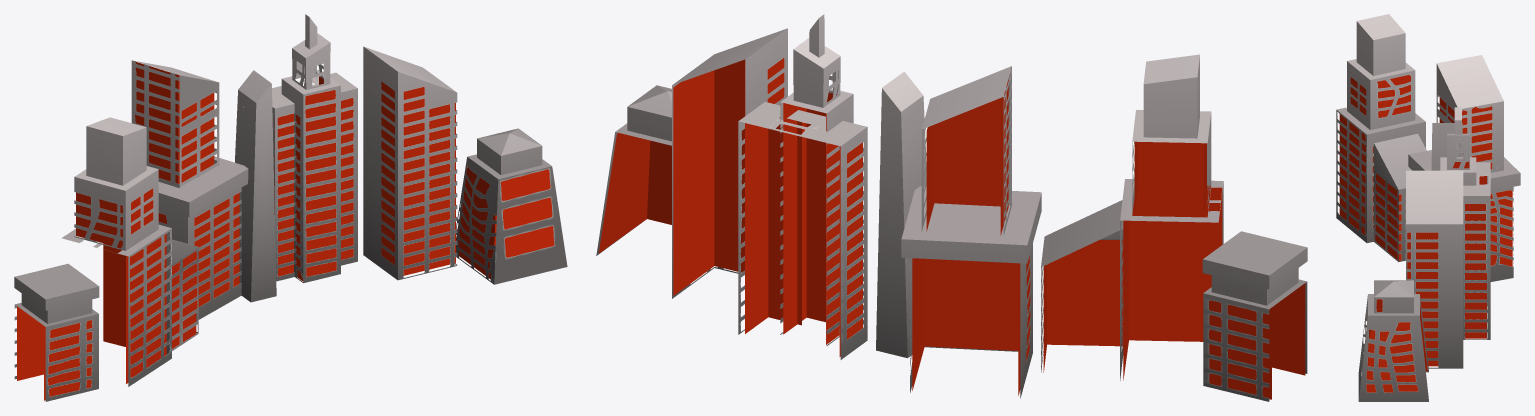
File: City_With_Windows.fbx
3 views of the same model, side by side, from view 1: azimuth 30°, elevation 25°; view 2: azimuth 150°, elevation 25°; view 3: azimuth 270°, elevation 25° (orthographic). The views are drawn at different scales.
Visible parts, largest first — view 1: Building2, Building5, Building4, Building3, Building1, Building_Window5, Building_Window3, Building_Window2, Building7, Building_Window4, Building6, Building_Window1 (+1 smaller); view 2: Building_Window5, Building_Window3, Building_Window4, Building_Window2, Building4, Building3, Building5, Building7, Building6, Building_Window6, Building_Window1, Building2 (+1 smaller); view 3: Building5, Building2, Building4, Building1, Building_Window5, Building3, Building_Window3, Building_Window4, Building_Window2, Building_Window1, Building7.
Part boxes in pixels (box(x1,y1,x2,y2)): Building2: box(363, 46, 457, 280); Building5: box(61, 117, 198, 386); Building4: box(131, 60, 248, 319); Building3: box(272, 14, 357, 283); Building1: box(456, 128, 567, 284); Building_Window5: box(76, 188, 196, 383); Building_Window3: box(274, 76, 353, 281); Building_Window2: box(381, 81, 455, 275); Building7: box(235, 70, 276, 302); Building_Window4: box(135, 61, 239, 307); Building6: box(14, 263, 99, 401); Building_Window1: box(456, 166, 554, 279); Building_Window5: box(1043, 141, 1222, 380); Building_Window3: box(745, 92, 862, 356); Building_Window4: box(912, 79, 1030, 395); Building_Window2: box(673, 58, 784, 295); Building4: box(901, 66, 1041, 398); Building3: box(738, 14, 867, 359); Building5: box(1041, 54, 1223, 380); Building7: box(876, 71, 926, 358); Building6: box(1202, 231, 1307, 401); Building_Window6: box(1209, 283, 1305, 399); Building_Window1: box(599, 133, 671, 253); Building2: box(672, 28, 787, 298); Building5: box(1336, 14, 1426, 262); Building2: box(1406, 170, 1463, 368); Building4: box(1408, 55, 1520, 281); Building1: box(1358, 280, 1428, 401); Building_Window5: box(1339, 75, 1410, 260); Building3: box(1440, 107, 1490, 339); Building_Window3: box(1453, 161, 1486, 338); Building_Window4: box(1439, 97, 1512, 266); Building_Window2: box(1407, 232, 1438, 366); Building_Window1: box(1366, 299, 1427, 392); Building7: box(1431, 123, 1463, 170).
Size of the model in its own units: 32298 by 15098 by 11719.
